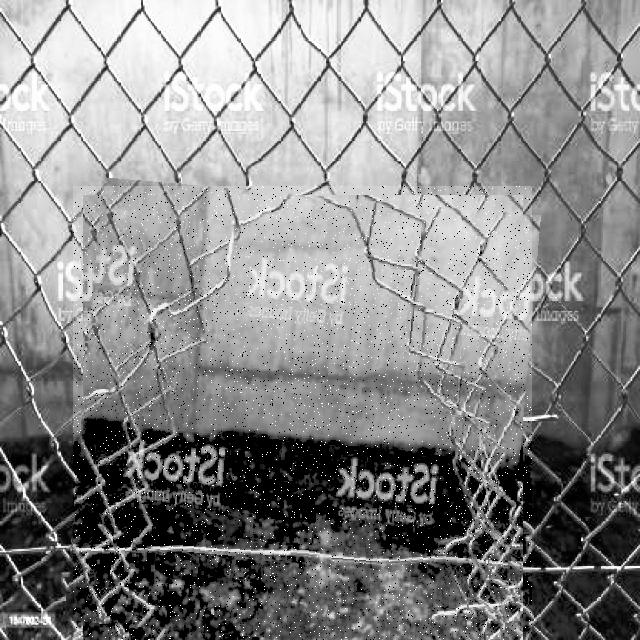anomaly-fence: (73, 186, 532, 640)
